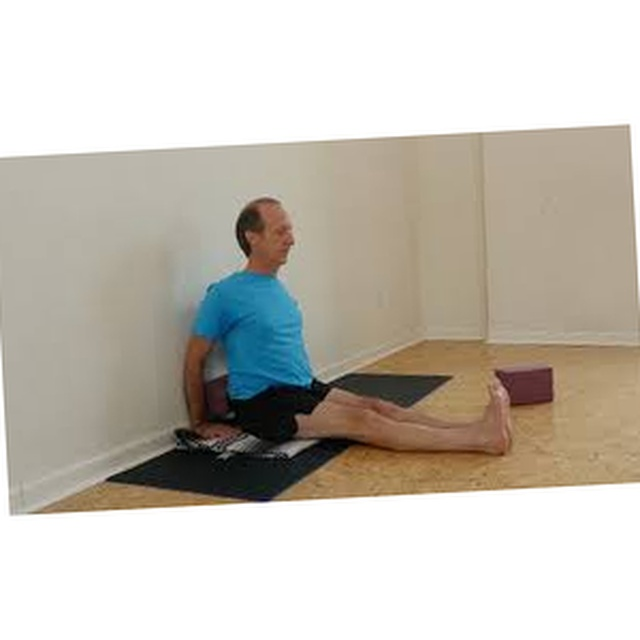Staff_Pose: (182, 199, 514, 457)
